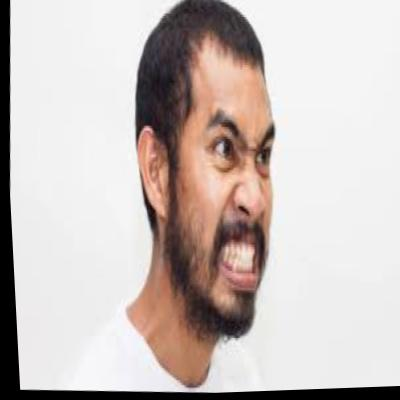angry: (136, 21, 291, 331)
